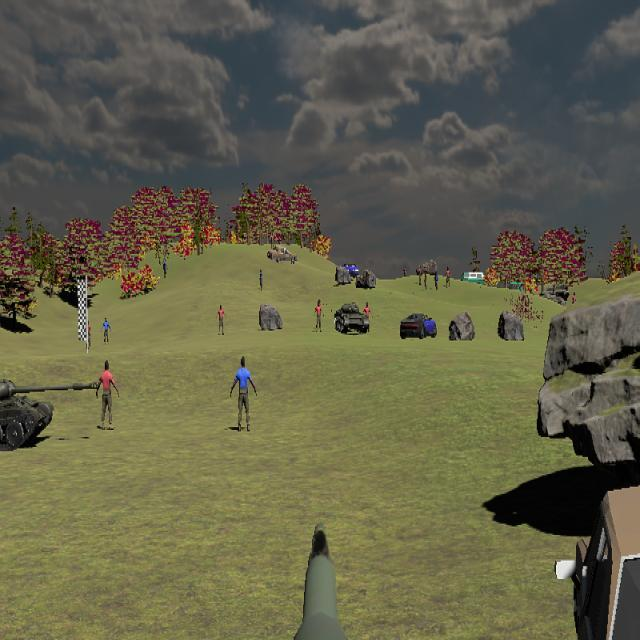Human: (230, 356, 258, 432), (230, 356, 257, 432), (96, 360, 120, 430)
Tank: (0, 375, 97, 453), (334, 302, 370, 335)
car: (400, 312, 438, 340), (267, 247, 298, 264)
